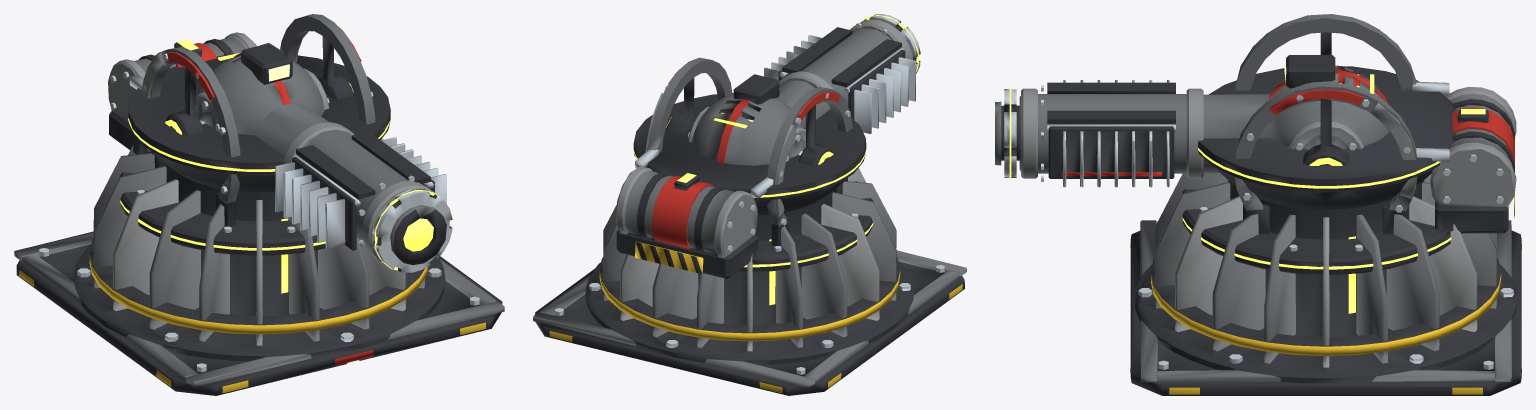
File: R4W_BeamCutter_LOD1.fbx
3 views of the same model, side by side, from view 1: azimuth 30°, elevation 25°; view 2: azimuth 150°, elevation 25°; view 3: azimuth 270°, elevation 25° (orthographic). The views are drawn at different scales.
Visible parts, largest first — view 1: R4W_BeamCutter_Base_LOD1, R4W_BeamCutter_Pitch_LOD1, R4W_BeamCutter_Yaw_LOD1, R4W_BeamCutter_FinL_LOD1, R4W_BeamCutter_FocusRing_LOD1, R4W_BeamCutter_FinR_LOD1; view 2: R4W_BeamCutter_Base_LOD1, R4W_BeamCutter_Yaw_LOD1, R4W_BeamCutter_Pitch_LOD1, R4W_BeamCutter_FinL_LOD1, R4W_BeamCutter_FinR_LOD1, R4W_BeamCutter_FocusRing_LOD1; view 3: R4W_BeamCutter_Base_LOD1, R4W_BeamCutter_Yaw_LOD1, R4W_BeamCutter_Pitch_LOD1, R4W_BeamCutter_FinR_LOD1, R4W_BeamCutter_FocusRing_LOD1.
Part boxes in pixels (x1,y1,x2,y2): R4W_BeamCutter_Base_LOD1: (14,54,504,395); R4W_BeamCutter_Pitch_LOD1: (195,43,446,264); R4W_BeamCutter_Yaw_LOD1: (108,14,375,255); R4W_BeamCutter_FinL_LOD1: (275,155,360,250); R4W_BeamCutter_FocusRing_LOD1: (372,189,452,272); R4W_BeamCutter_FinR_LOD1: (381,137,446,203); R4W_BeamCutter_Base_LOD1: (533,93,966,395); R4W_BeamCutter_Yaw_LOD1: (616,57,873,278); R4W_BeamCutter_Pitch_LOD1: (688,19,912,165); R4W_BeamCutter_FinL_LOD1: (844,47,915,133); R4W_BeamCutter_FinR_LOD1: (764,35,821,81); R4W_BeamCutter_FocusRing_LOD1: (861,14,920,73); R4W_BeamCutter_Base_LOD1: (1130,66,1521,395); R4W_BeamCutter_Yaw_LOD1: (1182,14,1516,274); R4W_BeamCutter_Pitch_LOD1: (995,55,1389,181); R4W_BeamCutter_FinR_LOD1: (1047,124,1175,187); R4W_BeamCutter_FocusRing_LOD1: (1004,88,1016,178).
Bounding box in the file's own units: 0.5108 × 0.3804 × 0.6874.
